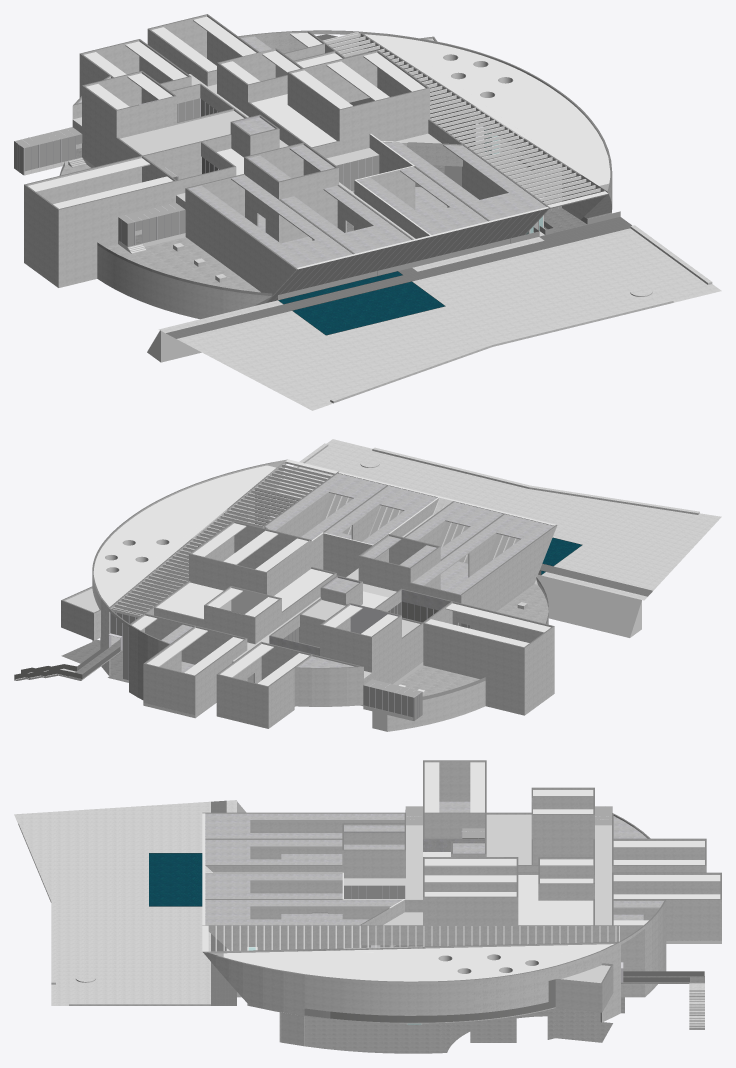
The model's file is muac.gltf.
The picture shows the model from 3 angles, top to bottom: view 1: azimuth 30°, elevation 25°; view 2: azimuth 150°, elevation 25°; view 3: azimuth 270°, elevation 25°; orthographic projection. The views are drawn at different scales.
Parts seen in each view (by area): view 1: MUAC para web; view 2: MUAC para web; view 3: MUAC para web.
Boxes of the visible parts, x1,y1,x2,y2 form: MUAC para web: [14, 14, 721, 410]; MUAC para web: [14, 439, 721, 731]; MUAC para web: [14, 760, 721, 1053].
Size of the model in its own units: 102 by 21.61 by 137.
Materials: 37 (14 with a texture image).
